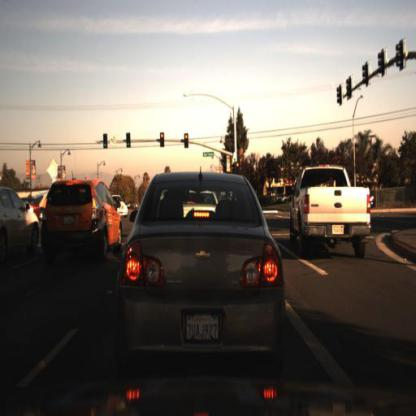car: (120, 174, 284, 371), (291, 161, 373, 268), (41, 175, 123, 267), (1, 182, 42, 263), (112, 190, 132, 220), (113, 192, 131, 223)
trafficLight-GreenLeft: (103, 130, 111, 151), (125, 131, 133, 152)
trafficLight-Red: (160, 130, 168, 149), (183, 133, 191, 152), (234, 161, 242, 179)
